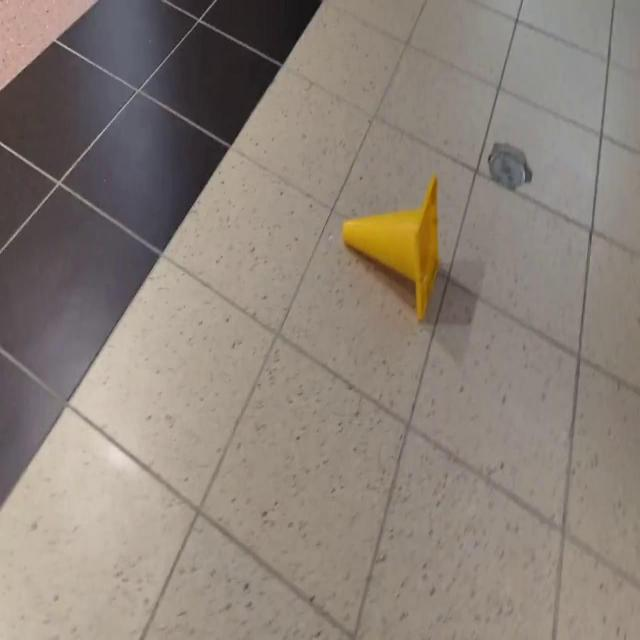frc_cone: (341, 172, 439, 322)
